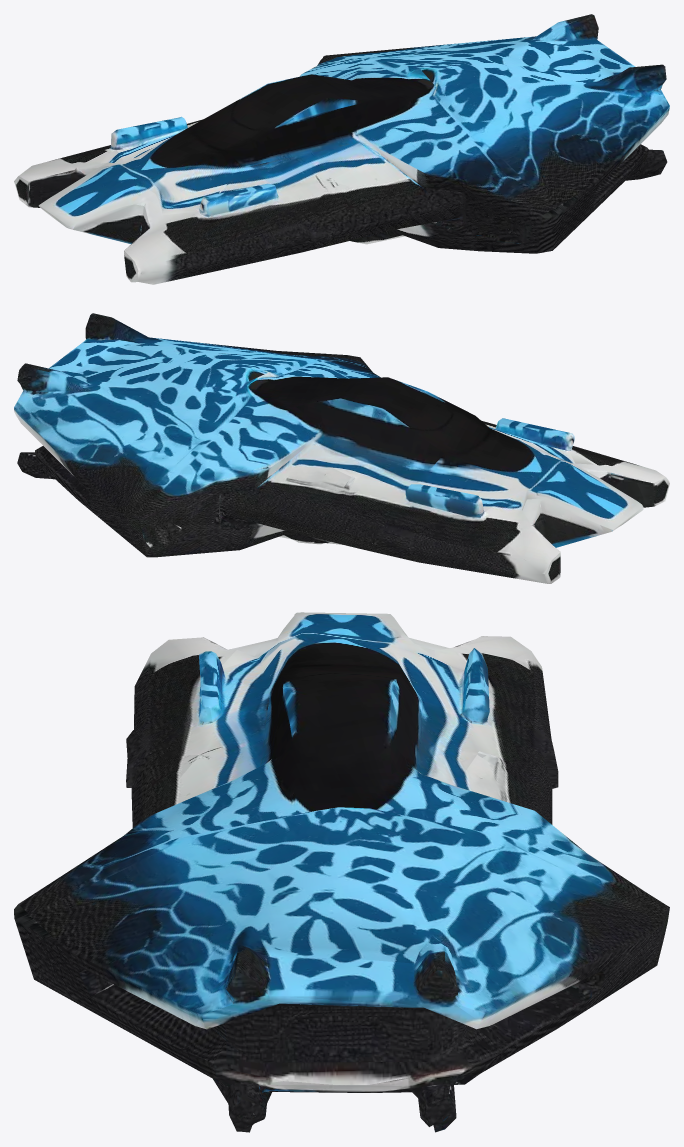
File: ship17.glb
3 renders of one model, top to bottom at view 1: azimuth 30°, elevation 25°; view 2: azimuth 150°, elevation 25°; view 3: azimuth 270°, elevation 25°, orthographic. The views are drawn at different scales.
Visible parts, largest first — view 1: Mesh0; view 2: Mesh0; view 3: Mesh0.
Boxes of the visible parts, x1,y1,x2,y2 form: Mesh0: (14,14,669,284); Mesh0: (14,313,669,583); Mesh0: (14,612,669,1132).
Size of the model in its own units: 1.91 by 0.5185 by 1.27.
1 material, 1 textured.
